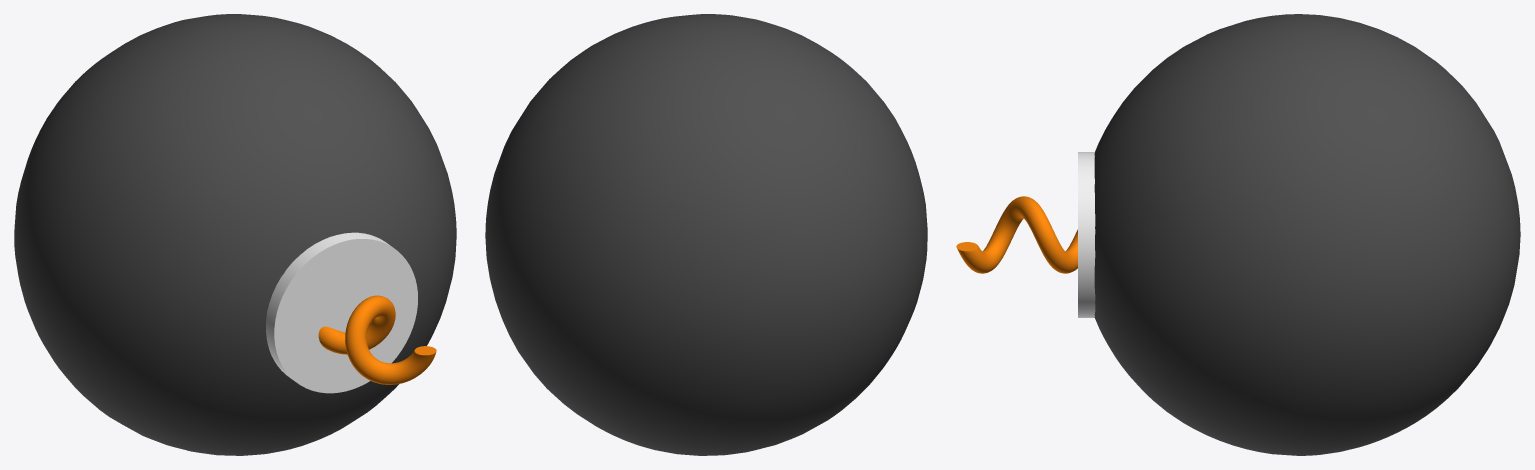
Rendered from bomber.fbx.
3 renders of one model, left to right at view 1: azimuth 30°, elevation 25°; view 2: azimuth 150°, elevation 25°; view 3: azimuth 270°, elevation 25°, orthographic.
Parts seen in each view (by area): view 1: Body1, Body3, Body4; view 2: Body1; view 3: Body1, Body4, Body3.
Boxes of the visible parts, box(x1,y1,x2,y2) form: Body1: box(14, 14, 456, 455); Body3: box(266, 232, 417, 393); Body4: box(318, 295, 436, 384); Body1: box(485, 14, 927, 455); Body1: box(1094, 14, 1520, 455); Body4: box(956, 196, 1077, 273); Body3: box(1078, 152, 1095, 317).
Bounding box in the file's own units: 40 × 40 × 51.
